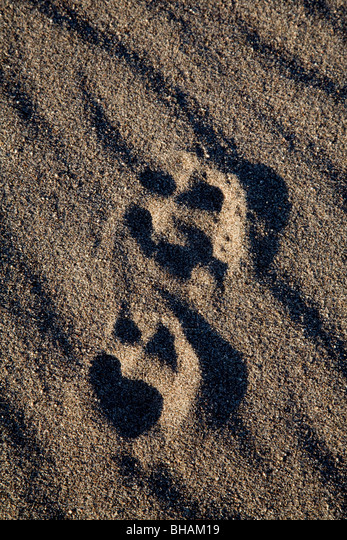coyote: (85, 314, 181, 444), (125, 162, 225, 283)
